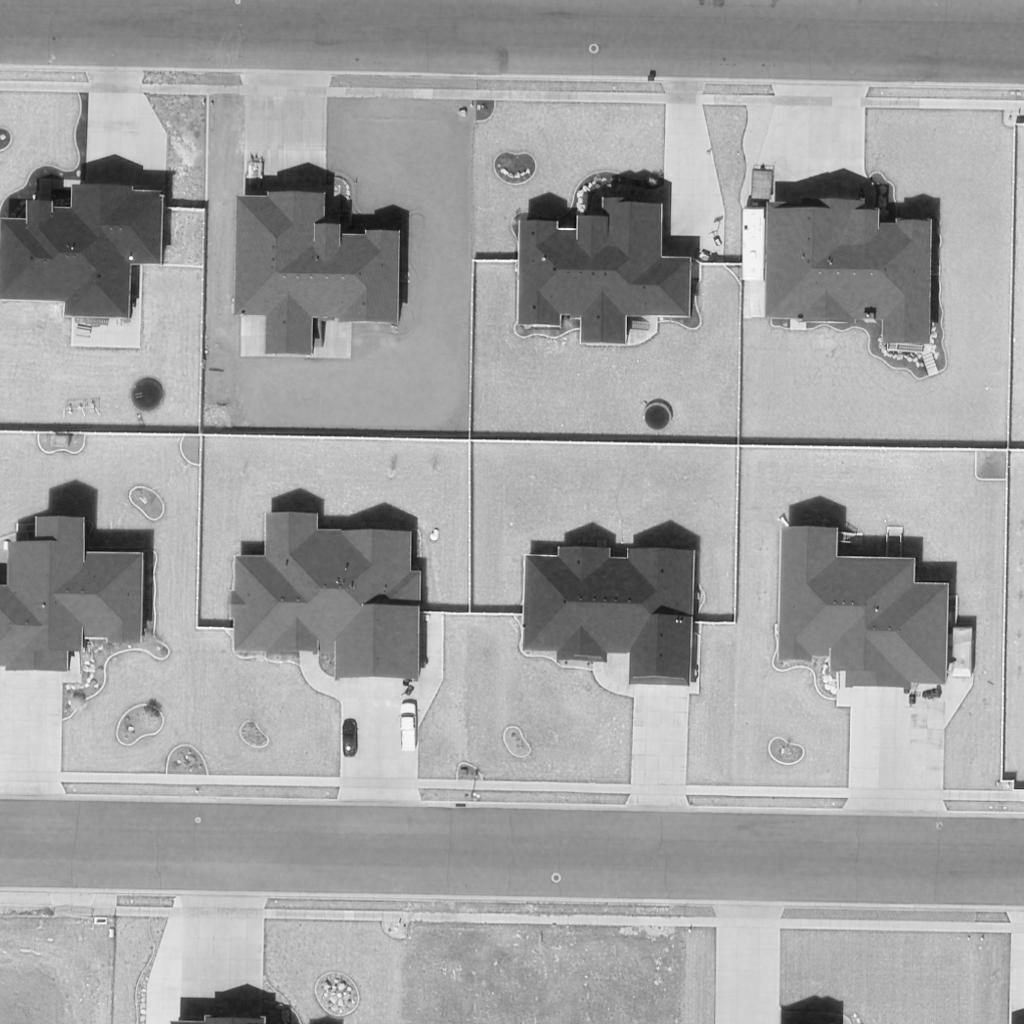vehicle: (399, 703, 417, 753), (343, 722, 359, 758)
